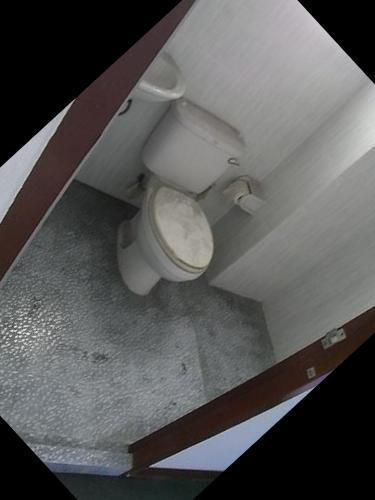Lavamanos: (91, 25, 205, 138)
Sanitario: (42, 83, 293, 330)
